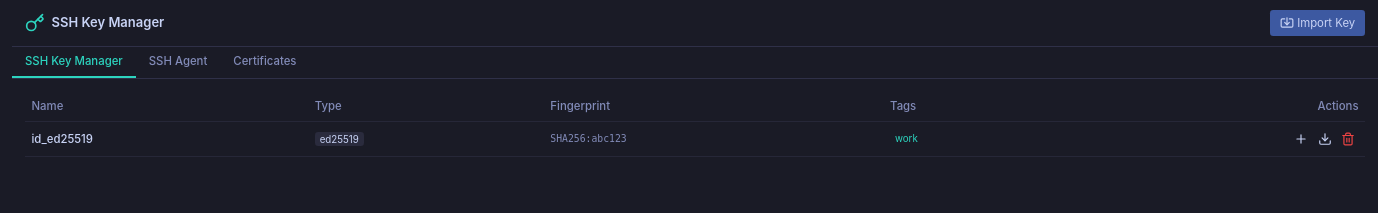
KeyManager › switches to the certificates tab and shows certs
The image size is (1378, 213).
Expected: the text "id_ed25519" is shown, [25, 122, 308, 156]
Click the button "Certificates" at (265, 62), box [220, 46, 310, 78]
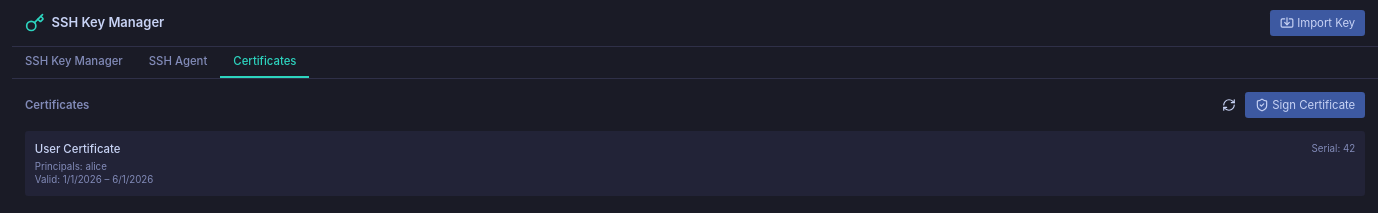
Expected: the text "User Certificate" is shown, [35, 140, 120, 157]
Expected: the text "Principals: alice" is shown, [35, 161, 107, 172]
